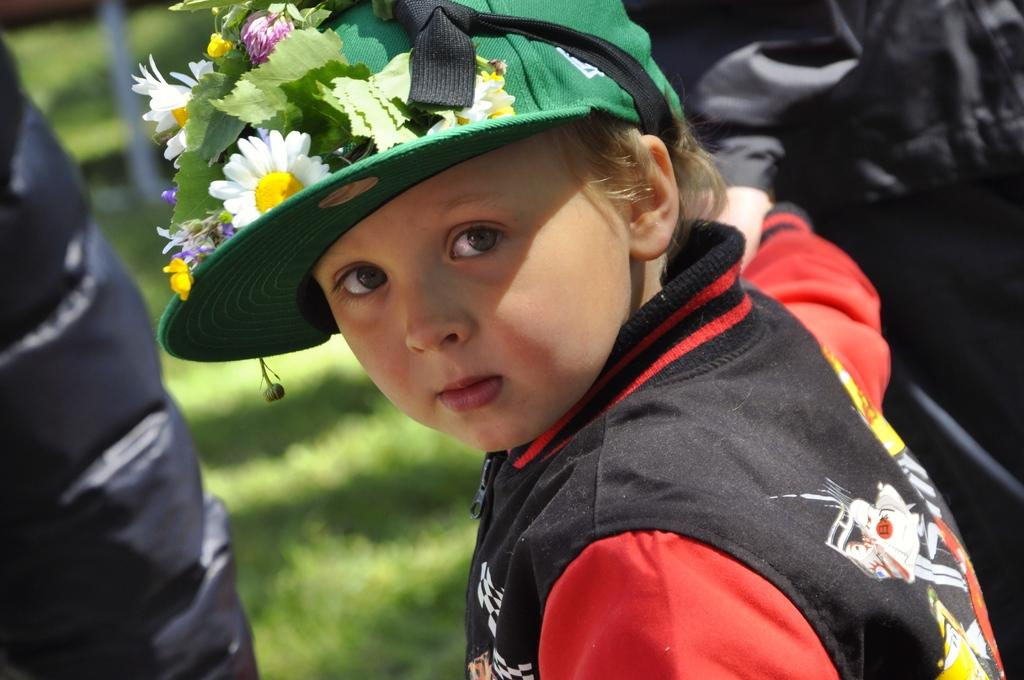Hat: (156, 0, 688, 361)
